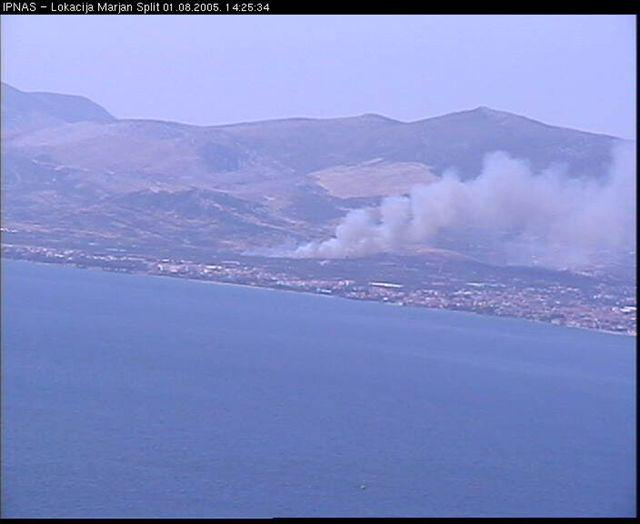Smoke: (245, 149, 634, 282)
